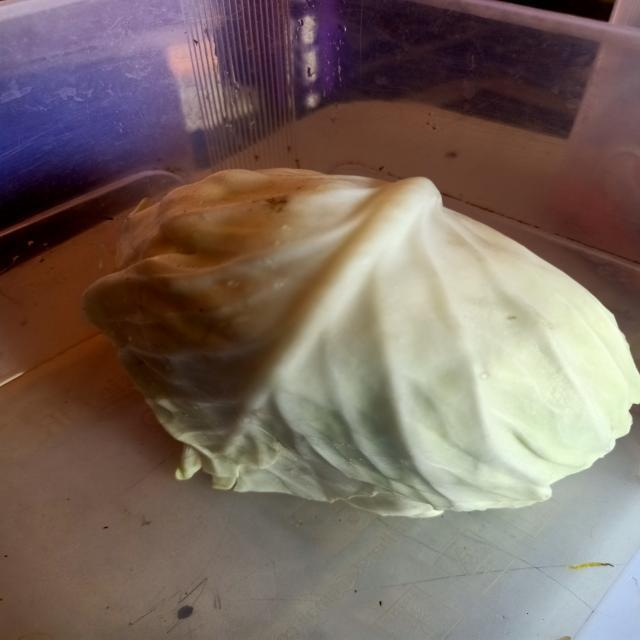Cabbage: (75, 140, 640, 536)
